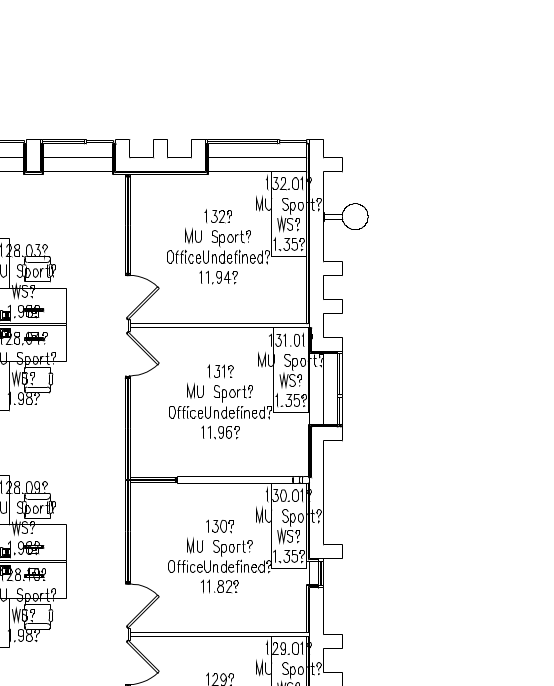door: (120, 638, 165, 686), (123, 330, 168, 377), (120, 581, 165, 628), (124, 274, 166, 319)
